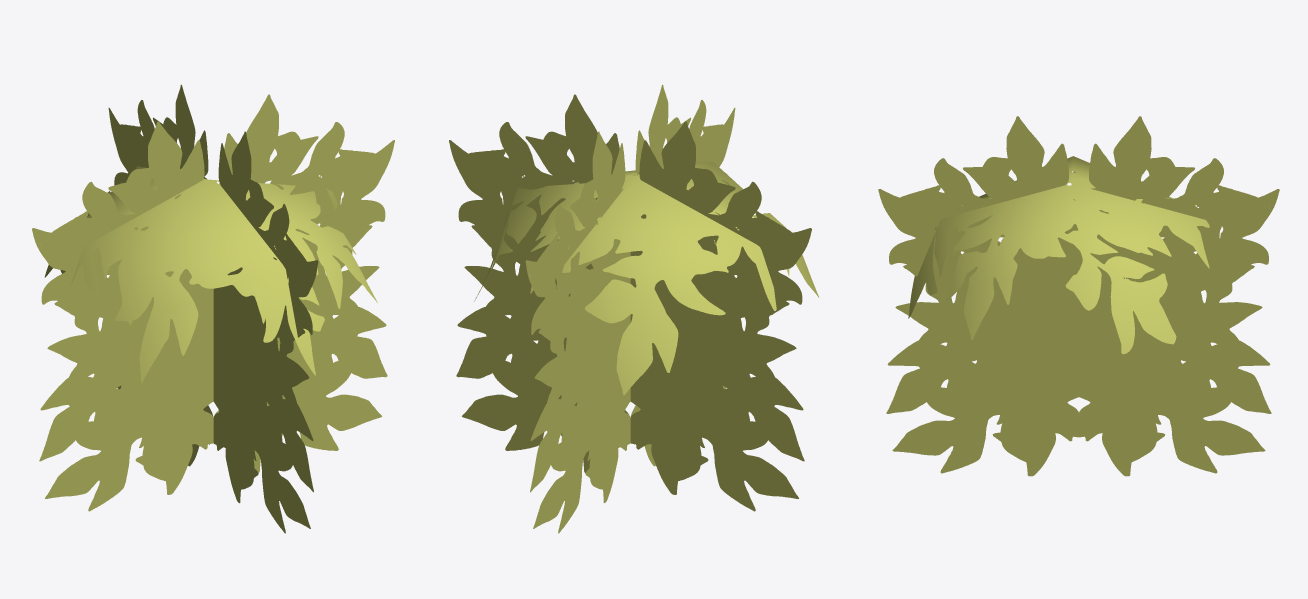
File: bushLight.fbx
The picture shows the model from 3 angles, left to right: view 1: azimuth 30°, elevation 25°; view 2: azimuth 150°, elevation 25°; view 3: azimuth 270°, elevation 25°; orthographic projection. The views are drawn at different scales.
Parts seen in each view (by area): view 1: bushLight; view 2: bushLight; view 3: bushLight.
Part boxes in pixels (box(x1,y1,x2,y2)): bushLight: box(32, 84, 394, 533); bushLight: box(449, 84, 819, 533); bushLight: box(878, 116, 1279, 476).
Bounding box in the file's own units: 174 × 174 × 174.
